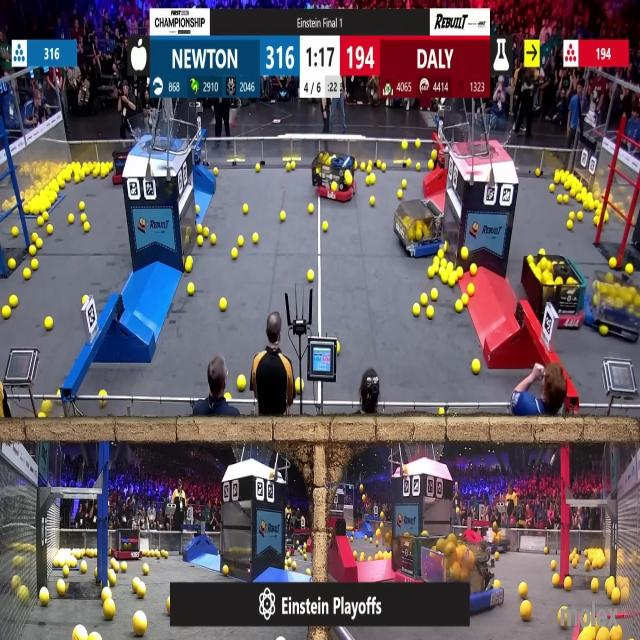ball_ground: (133, 612, 148, 636), (103, 599, 116, 620), (39, 588, 49, 607), (471, 358, 479, 374), (520, 584, 528, 600), (563, 575, 572, 589), (238, 376, 246, 391), (219, 298, 227, 312), (426, 306, 434, 319), (44, 317, 52, 329), (460, 248, 468, 260), (413, 305, 421, 317), (3, 306, 11, 318), (366, 174, 374, 185), (187, 282, 194, 294), (469, 265, 476, 277), (8, 258, 15, 269), (32, 260, 39, 271), (308, 271, 315, 282), (64, 565, 70, 577), (610, 256, 616, 268), (80, 561, 86, 573), (11, 228, 18, 238), (142, 563, 148, 574), (456, 302, 462, 313), (431, 288, 436, 301), (239, 237, 245, 247), (46, 223, 52, 233), (552, 560, 558, 570), (25, 270, 31, 280), (450, 276, 456, 286), (211, 235, 217, 245), (68, 214, 75, 222), (567, 220, 573, 229), (308, 204, 314, 213), (397, 189, 403, 198), (440, 408, 446, 416), (79, 202, 84, 211), (244, 205, 249, 214), (323, 221, 328, 230), (416, 139, 421, 148), (234, 248, 238, 259), (369, 198, 374, 206), (416, 163, 421, 171), (539, 248, 544, 256), (535, 169, 540, 177), (256, 163, 260, 173), (402, 179, 406, 188), (495, 553, 500, 560), (402, 141, 406, 149)
goal: (455, 115, 515, 157), (124, 117, 186, 151)
robot_blue: (420, 534, 509, 613), (586, 260, 640, 340), (394, 199, 446, 257)
robot_red: (521, 257, 587, 333), (389, 528, 450, 590), (310, 152, 356, 200), (110, 139, 147, 185), (109, 529, 140, 559)
